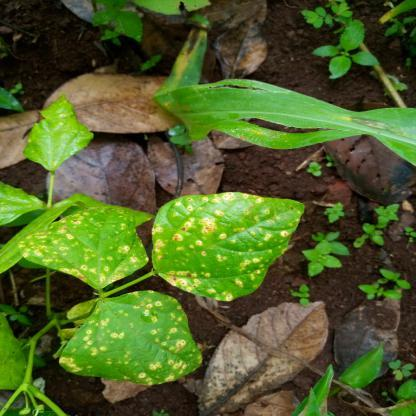Beans_Rust: (147, 194, 304, 298), (16, 194, 141, 286), (58, 298, 195, 378)
